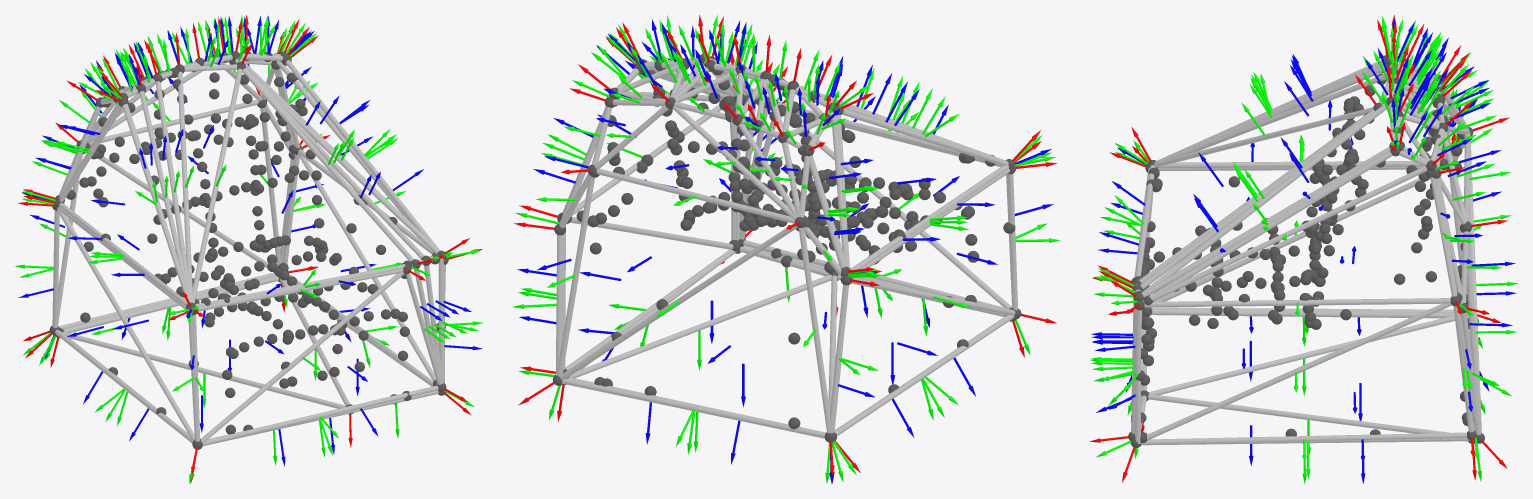
Rendered from author2_sofa.gltf.
3 renders of one model, left to right at view 1: azimuth 30°, elevation 25°; view 2: azimuth 150°, elevation 25°; view 3: azimuth 270°, elevation 25°, orthographic. The views are drawn at different scales.
Size of the model in its own units: 0.7024 by 0.7322 by 0.7585.
